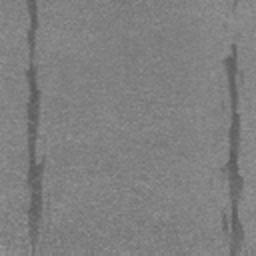Red iron sheet: (24, 0, 47, 256), (219, 44, 246, 256), (232, 0, 237, 15)
